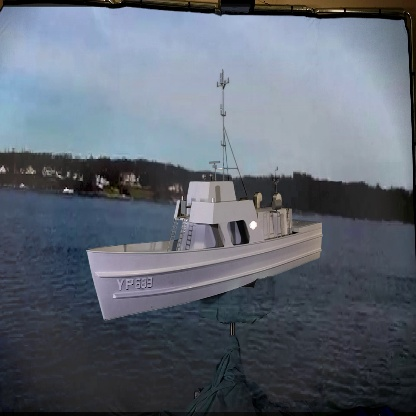YP689: (84, 68, 331, 324)
